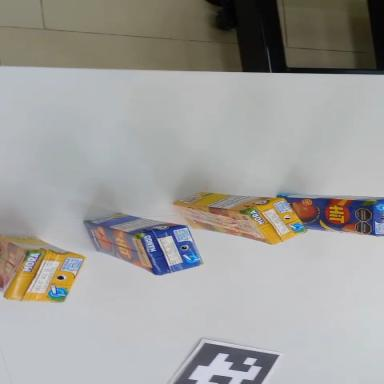HIT-MANGO: (78, 207, 208, 283), (276, 194, 384, 237)
HIT-MORA: (171, 190, 308, 247), (0, 234, 86, 306)
cara_F: (76, 221, 162, 274), (170, 204, 273, 244), (275, 196, 375, 235), (0, 237, 27, 297)
